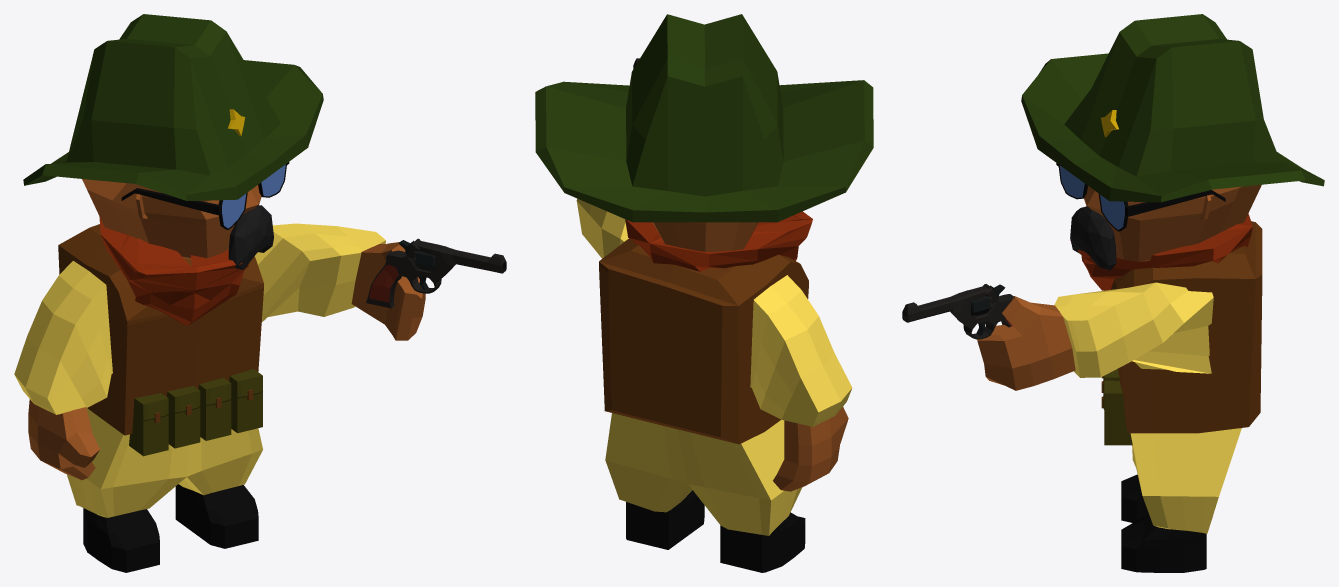
File: sheriff.obj
The picture shows the model from 3 angles, left to right: view 1: azimuth 30°, elevation 25°; view 2: azimuth 150°, elevation 25°; view 3: azimuth 270°, elevation 25°; orthographic projection. The views are drawn at different scales.
Visible parts, largest first — view 1: Cube.1034_Cube.3981; view 2: Cube.1034_Cube.3981; view 3: Cube.1034_Cube.3981.
Boxes of the visible parts, left/top/right/bottom form: Cube.1034_Cube.3981: left=14, top=14, right=506, bottom=572; Cube.1034_Cube.3981: left=535, top=14, right=873, bottom=572; Cube.1034_Cube.3981: left=902, top=14, right=1324, bottom=572.
Bounding box in the file's own units: 0.631 × 0.8742 × 0.6558.
